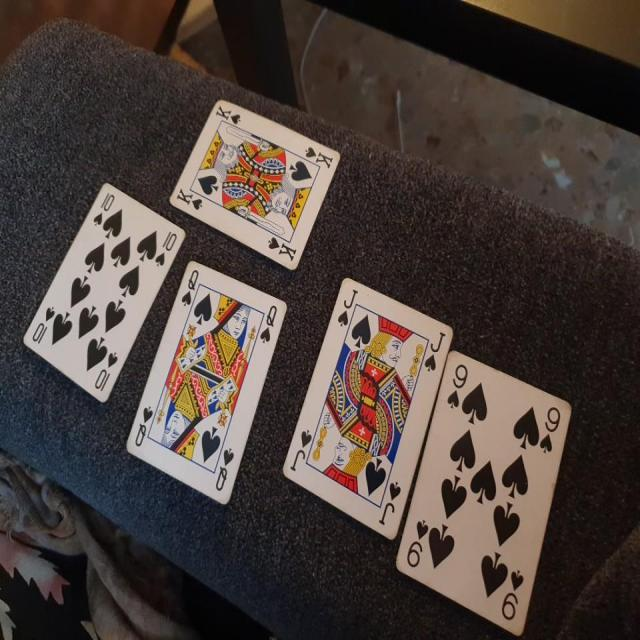10 Spades: (19, 172, 190, 402)
9 Spades: (392, 350, 573, 631)
J Spades: (285, 273, 449, 542)
K Spades: (166, 96, 348, 278)
Q Spades: (123, 252, 290, 518)
